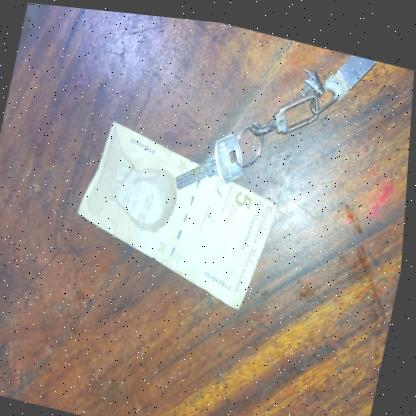five-front-vef: (67, 111, 290, 309)
